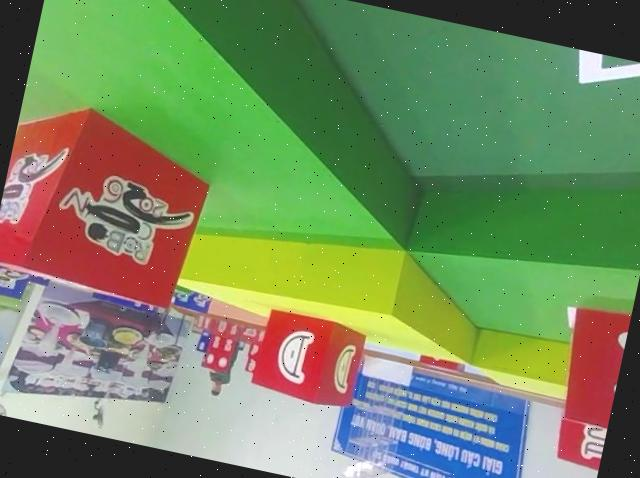R1: (0, 94, 221, 312)
R2 Fake: (549, 395, 612, 478)
R2 Real: (245, 303, 372, 413), (549, 301, 632, 431)
